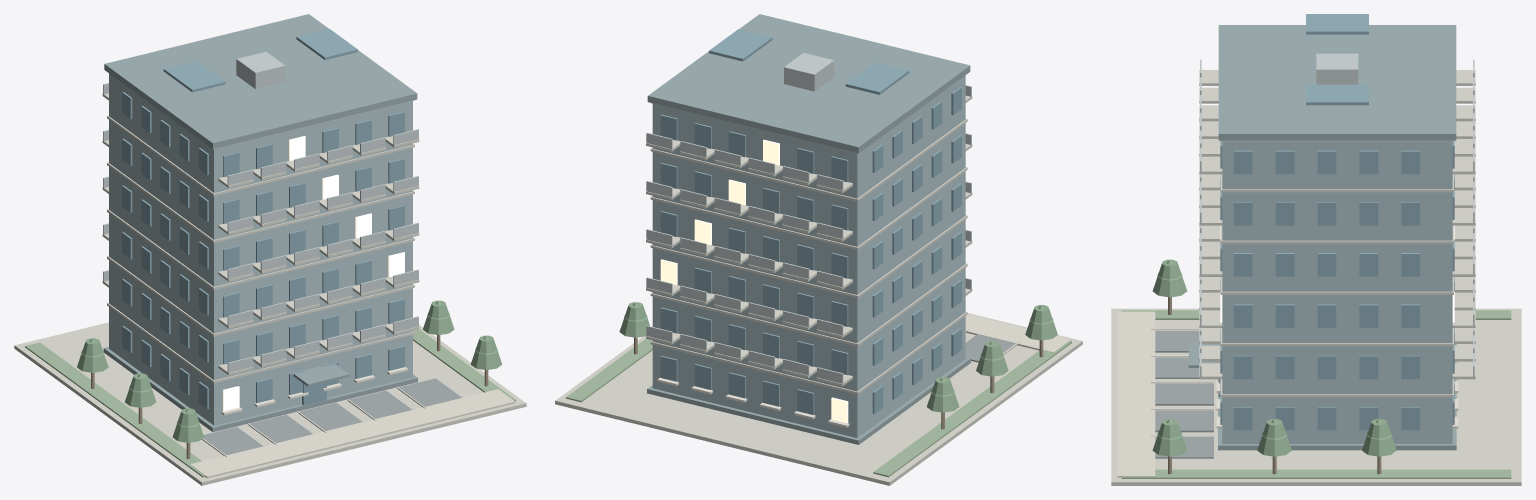
The model's file is remaster_apartment_6.glb.
3 renders of one model, left to right at view 1: azimuth 30°, elevation 25°; view 2: azimuth 150°, elevation 25°; view 3: azimuth 270°, elevation 25°, orthographic. The views are drawn at different scales.
Parts seen in each view (by area): view 1: remaster_apartment_6 blue, remaster_apartment_6 roof, remaster_apartment_6 stone, remaster_apartment_6 glass, remaster_apartment_6 metal, remaster_apartment_6 cream, remaster_apartment_6 asphalt, remaster_apartment_6 green, remaster_apartment_6 leaf, remaster_apartment_6 warm, remaster_apartment_6 white; view 2: remaster_apartment_6 blue, remaster_apartment_6 stone, remaster_apartment_6 roof, remaster_apartment_6 glass, remaster_apartment_6 metal, remaster_apartment_6 green, remaster_apartment_6 leaf, remaster_apartment_6 warm, remaster_apartment_6 cream, remaster_apartment_6 white, remaster_apartment_6 asphalt; view 3: remaster_apartment_6 blue, remaster_apartment_6 stone, remaster_apartment_6 roof, remaster_apartment_6 glass, remaster_apartment_6 cream, remaster_apartment_6 asphalt, remaster_apartment_6 green, remaster_apartment_6 leaf, remaster_apartment_6 metal, remaster_apartment_6 white.
Boxes of the visible parts, x1,y1,x2,y2 form: remaster_apartment_6 blue: [109, 73, 412, 425]; remaster_apartment_6 roof: [103, 14, 417, 431]; remaster_apartment_6 stone: [14, 93, 526, 485]; remaster_apartment_6 glass: [122, 28, 404, 409]; remaster_apartment_6 metal: [103, 51, 418, 372]; remaster_apartment_6 cream: [190, 389, 515, 478]; remaster_apartment_6 asphalt: [202, 378, 461, 455]; remaster_apartment_6 green: [25, 329, 515, 477]; remaster_apartment_6 leaf: [77, 300, 502, 442]; remaster_apartment_6 warm: [223, 136, 404, 410]; remaster_apartment_6 white: [202, 367, 425, 456]; remaster_apartment_6 blue: [652, 75, 965, 438]; remaster_apartment_6 stone: [555, 95, 1082, 485]; remaster_apartment_6 roof: [647, 14, 970, 444]; remaster_apartment_6 glass: [660, 29, 961, 414]; remaster_apartment_6 metal: [646, 53, 971, 384]; remaster_apartment_6 green: [566, 339, 1071, 477]; remaster_apartment_6 leaf: [619, 302, 1057, 412]; remaster_apartment_6 warm: [660, 139, 848, 423]; remaster_apartment_6 cream: [965, 314, 1071, 352]; remaster_apartment_6 white: [657, 329, 1019, 427]; remaster_apartment_6 asphalt: [965, 334, 1016, 362]; remaster_apartment_6 blue: [1222, 141, 1452, 443]; remaster_apartment_6 stone: [1111, 70, 1521, 485]; remaster_apartment_6 roof: [1188, 25, 1456, 450]; remaster_apartment_6 glass: [1218, 14, 1454, 430]; remaster_apartment_6 cream: [1117, 311, 1155, 477]; remaster_apartment_6 asphalt: [1155, 330, 1213, 458]; remaster_apartment_6 green: [1121, 310, 1511, 478]; remaster_apartment_6 leaf: [1152, 259, 1396, 456]; remaster_apartment_6 metal: [1200, 53, 1474, 377]; remaster_apartment_6 white: [1151, 329, 1458, 436].
Bounding box in the file's own units: 19.65 × 17.98 × 19.6.
